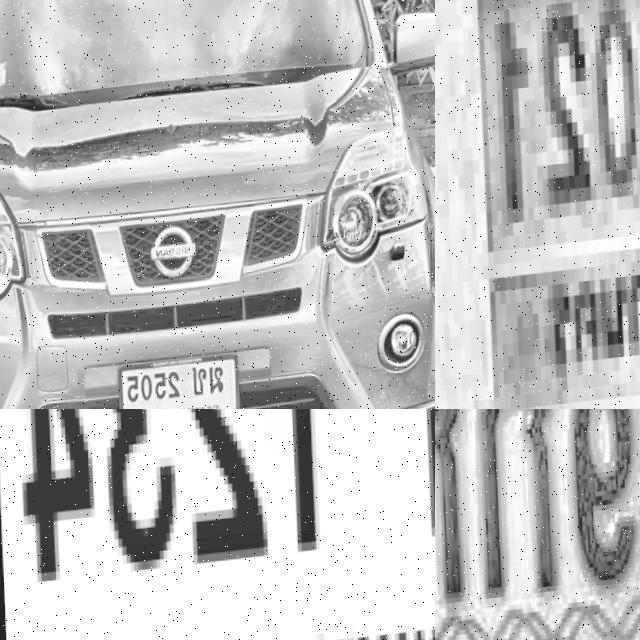license-plate: (0, 409, 435, 640), (435, 0, 640, 409), (435, 409, 640, 640), (115, 357, 239, 409)
